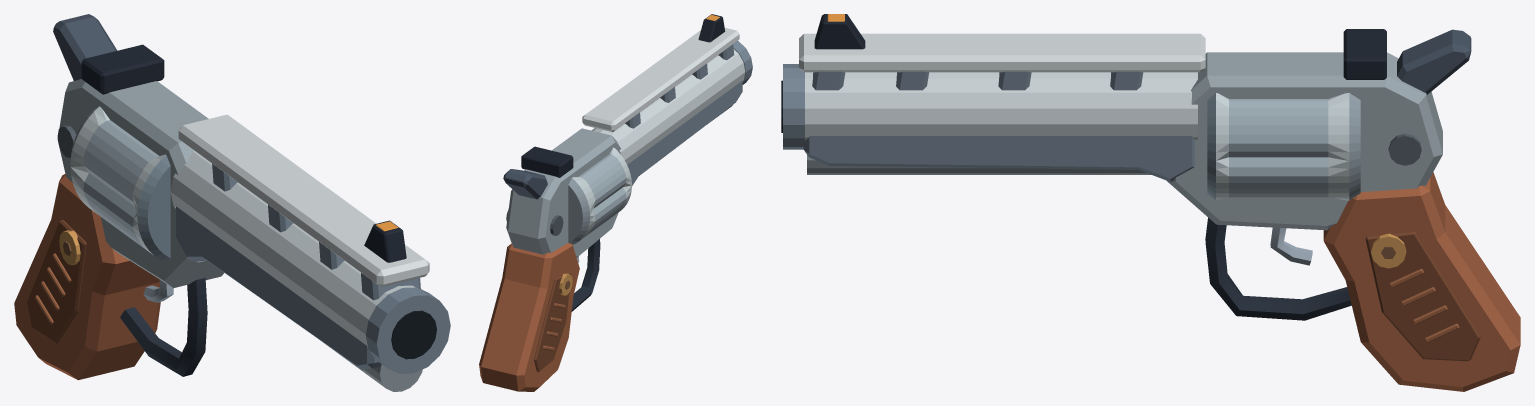
File: Magnum.glb
3 views of the same model, side by side, from view 1: azimuth 30°, elevation 25°; view 2: azimuth 150°, elevation 25°; view 3: azimuth 270°, elevation 25° (orthographic). The views are drawn at different scales.
Visible parts, largest first — view 1: Main, Cylinder, Hammer; view 2: Main, Cylinder, Hammer; view 3: Main, Cylinder, Hammer.
Boxes of the visible parts, <box> form: Main: <box>14,44,450,391</box>; Cylinder: <box>70,106,170,262</box>; Hammer: <box>53,14,117,80</box>; Main: <box>479,14,752,391</box>; Cylinder: <box>568,147,631,244</box>; Hammer: <box>503,169,547,199</box>; Main: <box>781,14,1520,391</box>; Cylinder: <box>1207,93,1360,200</box>; Hammer: <box>1397,29,1471,94</box>.
Size of the model in its own units: 0.45 by 1.28 by 2.38.
1 material, 1 textured.
